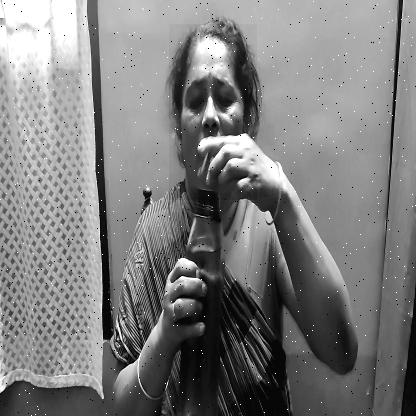Distracted: (169, 24, 257, 200)
